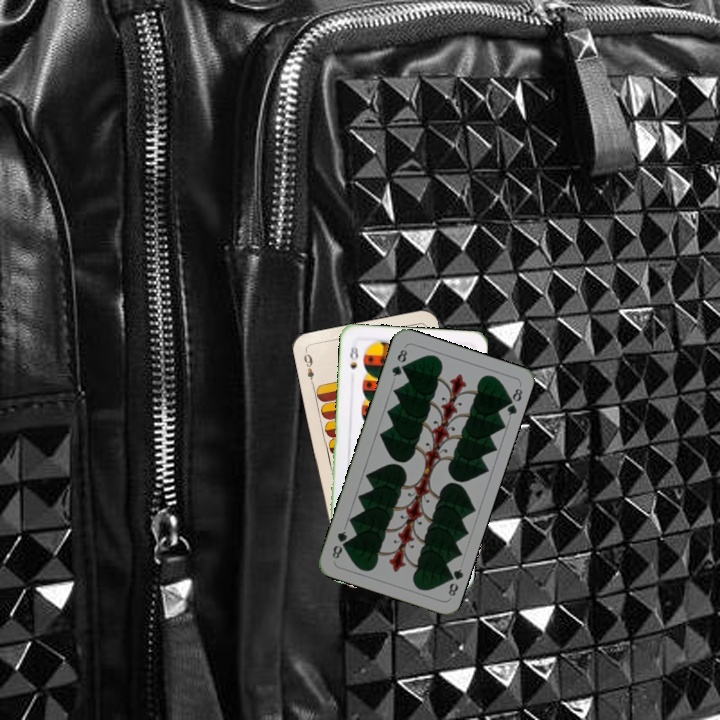E9: (300, 347, 317, 388)
G8: (442, 565, 465, 599), (388, 345, 410, 379)
S8: (346, 339, 361, 371)
